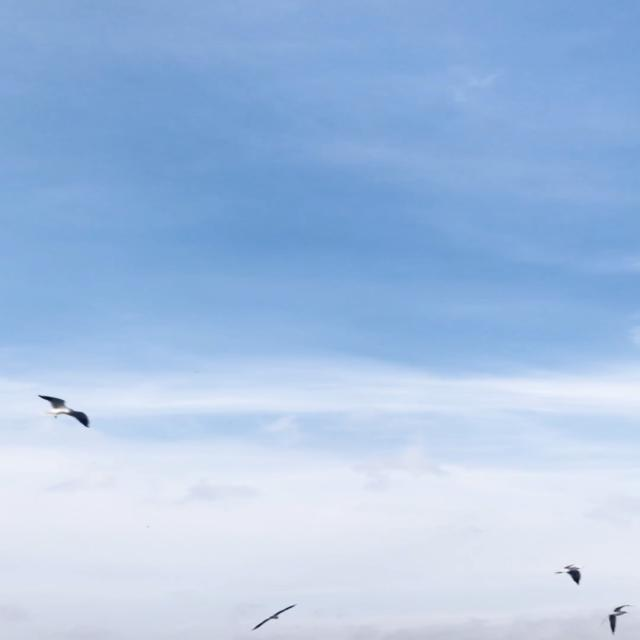bird: (28, 388, 104, 437), (242, 599, 298, 633), (601, 600, 638, 636), (544, 562, 590, 586)
